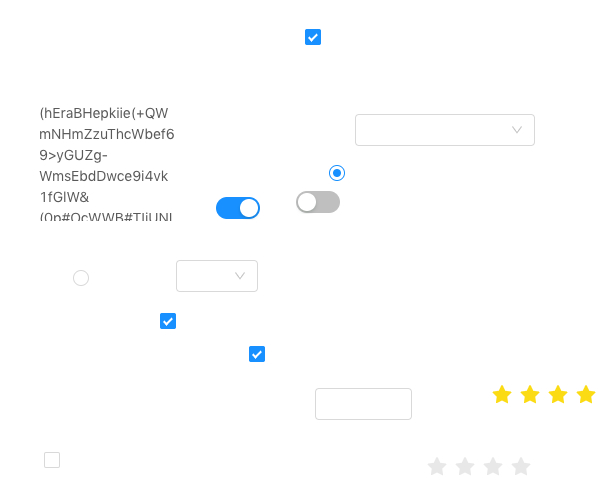Checkbox: (160, 310, 176, 331), (44, 449, 60, 470), (305, 26, 321, 47), (249, 343, 265, 364)
Input: (315, 388, 485, 420)
Radio: (329, 162, 345, 182), (73, 267, 89, 287)
Rate: (492, 378, 612, 410), (427, 450, 547, 482)
Select: (355, 114, 535, 146), (176, 260, 258, 292)
Switch: (296, 190, 340, 214), (216, 196, 260, 220)
Text: (39, 102, 177, 221)
